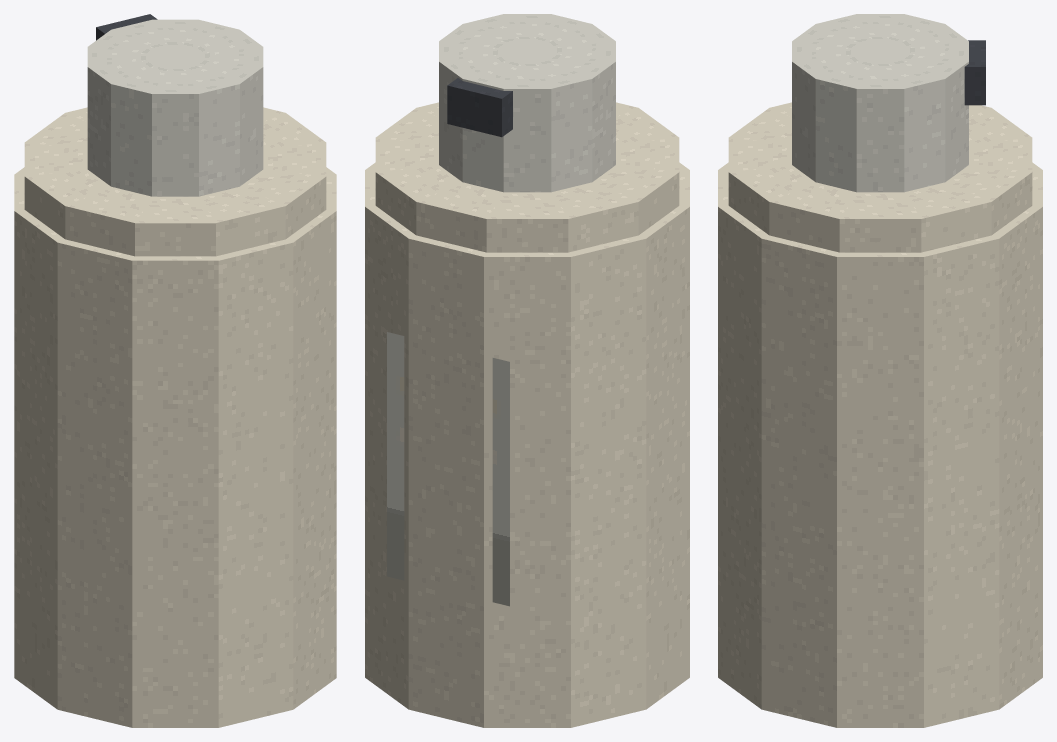
File: liq_bandage_spray.glb
The picture shows the model from 3 angles, left to right: view 1: azimuth 30°, elevation 25°; view 2: azimuth 150°, elevation 25°; view 3: azimuth 270°, elevation 25°; orthographic projection.
Visible parts, largest first — view 1: block_bottle body, block_atomizer, block_shoulder; view 2: block_bottle body, block_atomizer, block_shoulder, block_product label, block_nozzle; view 3: block_bottle body, block_atomizer, block_shoulder, block_nozzle.
Boxes of the visible parts, x1,y1,x2,y2 form: block_bottle body: (14, 167, 336, 727); block_atomizer: (87, 19, 263, 196); block_shoulder: (24, 107, 326, 256); block_bottle body: (365, 162, 689, 727); block_atomizer: (439, 14, 615, 192); block_shoulder: (375, 102, 679, 252); block_product label: (387, 332, 509, 606); block_nozzle: (447, 78, 512, 137); block_bottle body: (718, 162, 1042, 727); block_atomizer: (792, 14, 968, 192); block_shoulder: (728, 102, 1032, 252); block_nozzle: (964, 40, 985, 105).
Size of the model in its own units: 0.0392 by 0.081 by 0.0392.
1 material, 1 textured.
